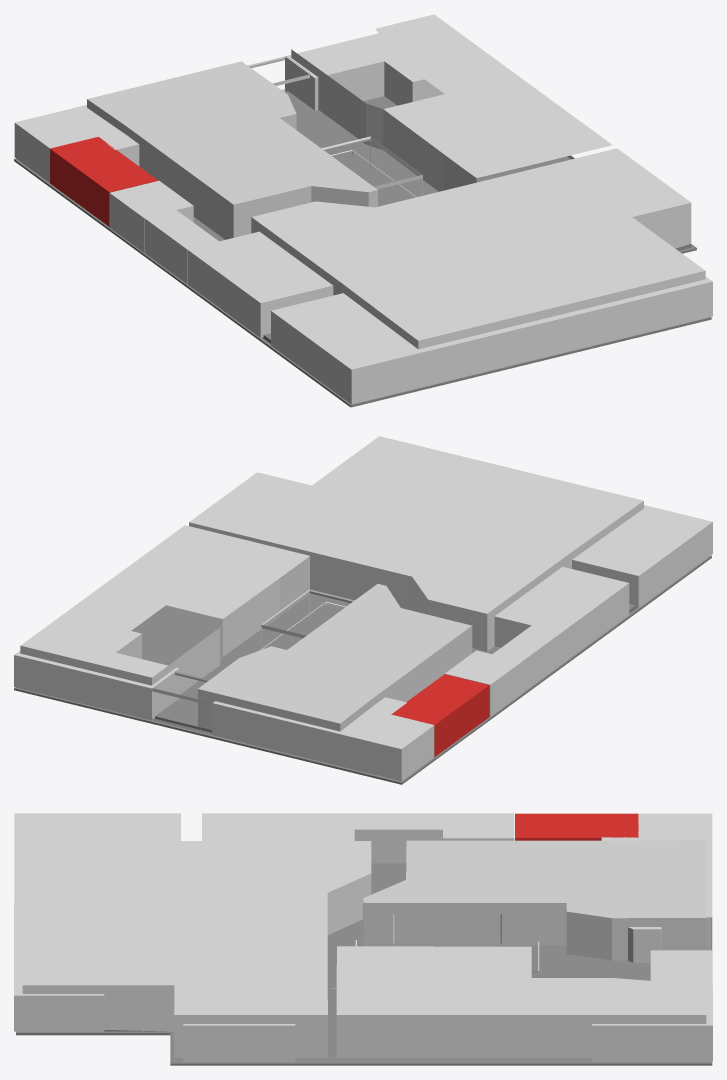
Rendered from Floor3_v1.2.0.glb.
3 views of the same model, one above another, from view 1: azimuth 30°, elevation 25°; view 2: azimuth 150°, elevation 25°; view 3: azimuth 270°, elevation 25° (orthographic). The views are drawn at different scales.
Parts seen in each view (by area): view 1: 2F内装, 従業員室, 焼き鳥, 従業員室2, パーティールーム, ペッパーランチ, トイレ, 従業員室3, 階段, 3F床.002, ラーメン, エレベーター (+4 smaller); view 2: 2F内装, 従業員室3, 従業員室, 焼き鳥, パーティールーム, ペッパーランチ, ラーメン, 2F床.001, 3F床.002, 階段, エレベーター, エレベーター.001 (+2 smaller); view 3: 2F内装, 3F床.002, ラーメン, 従業員室, うまげな, 焼き鳥, パーティールーム, 従業員室3, エレベーター, 従業員室2, ペッパーランチ, 階段 (+6 smaller).
Part boxes in pixels (box(x1,y1,x2,y2)): 2F内装: box(87, 14, 705, 349); 従業員室: box(271, 293, 427, 404); 焼き鳥: box(188, 231, 333, 337); 従業員室2: box(527, 276, 712, 361); パーティールーム: box(50, 136, 158, 226); ペッパーランチ: box(285, 39, 384, 110); トイレ: box(423, 323, 530, 385); 従業員室3: box(14, 105, 119, 182); 階段: box(109, 180, 193, 252); 3F床.002: box(14, 96, 711, 407); ラーメン: box(354, 33, 444, 105); エレベーター: box(154, 218, 219, 284); 2F内装: box(20, 436, 643, 732); 従業員室3: box(212, 701, 434, 781); 従業員室: box(572, 505, 712, 607); 焼き鳥: box(494, 566, 629, 663); パーティールーム: box(391, 674, 489, 757); ペッパーランチ: box(87, 652, 179, 720); ラーメン: box(14, 631, 141, 704); 2F床.001: box(131, 593, 310, 665); 3F床.002: box(14, 555, 711, 784); 階段: box(444, 650, 522, 716); エレベーター: box(502, 625, 562, 686); エレベーター.001: box(492, 647, 531, 692); 2F内装: box(22, 840, 706, 1057); 3F床.002: box(16, 988, 712, 1065); ラーメン: box(592, 985, 712, 1061); 従業員室: box(14, 813, 180, 852); うまげな: box(183, 1024, 295, 1061); 焼き鳥: box(202, 813, 354, 840); パーティールーム: box(515, 813, 638, 840); 従業員室3: box(638, 813, 712, 950); エレベーター: box(352, 813, 421, 863); 従業員室2: box(14, 903, 93, 1031); ペッパーランチ: box(650, 950, 712, 985); 階段: box(443, 813, 514, 840).
Size of the model in its own units: 63.36 by 6.8 by 88.04.
